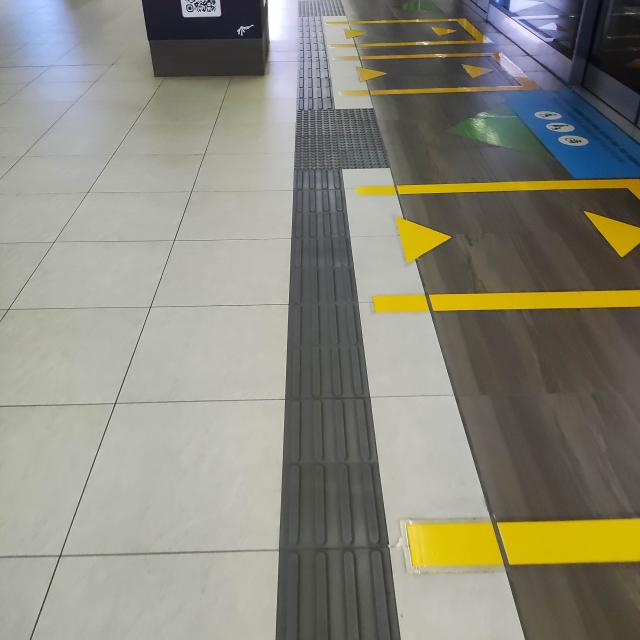lurus: (262, 166, 385, 640), (289, 15, 341, 111)
